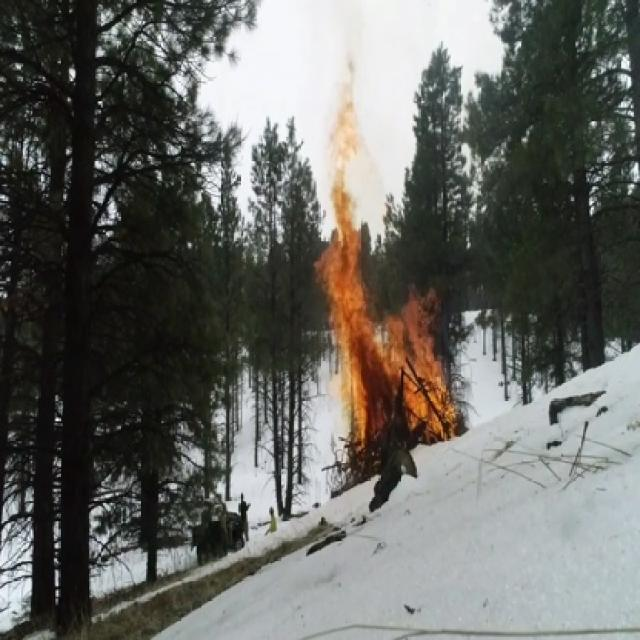Fire: (310, 57, 464, 471)
